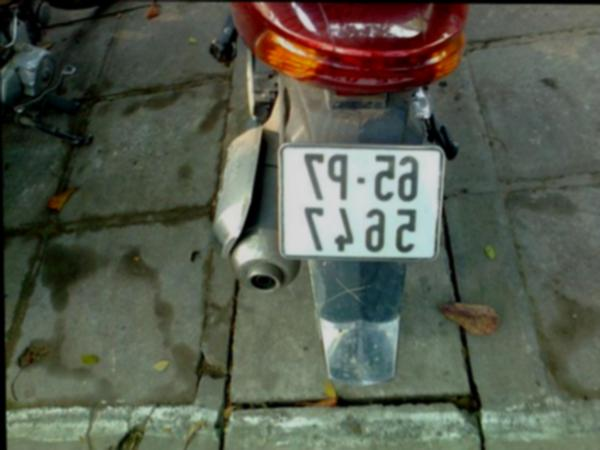License_Plate: (278, 145, 442, 258)
